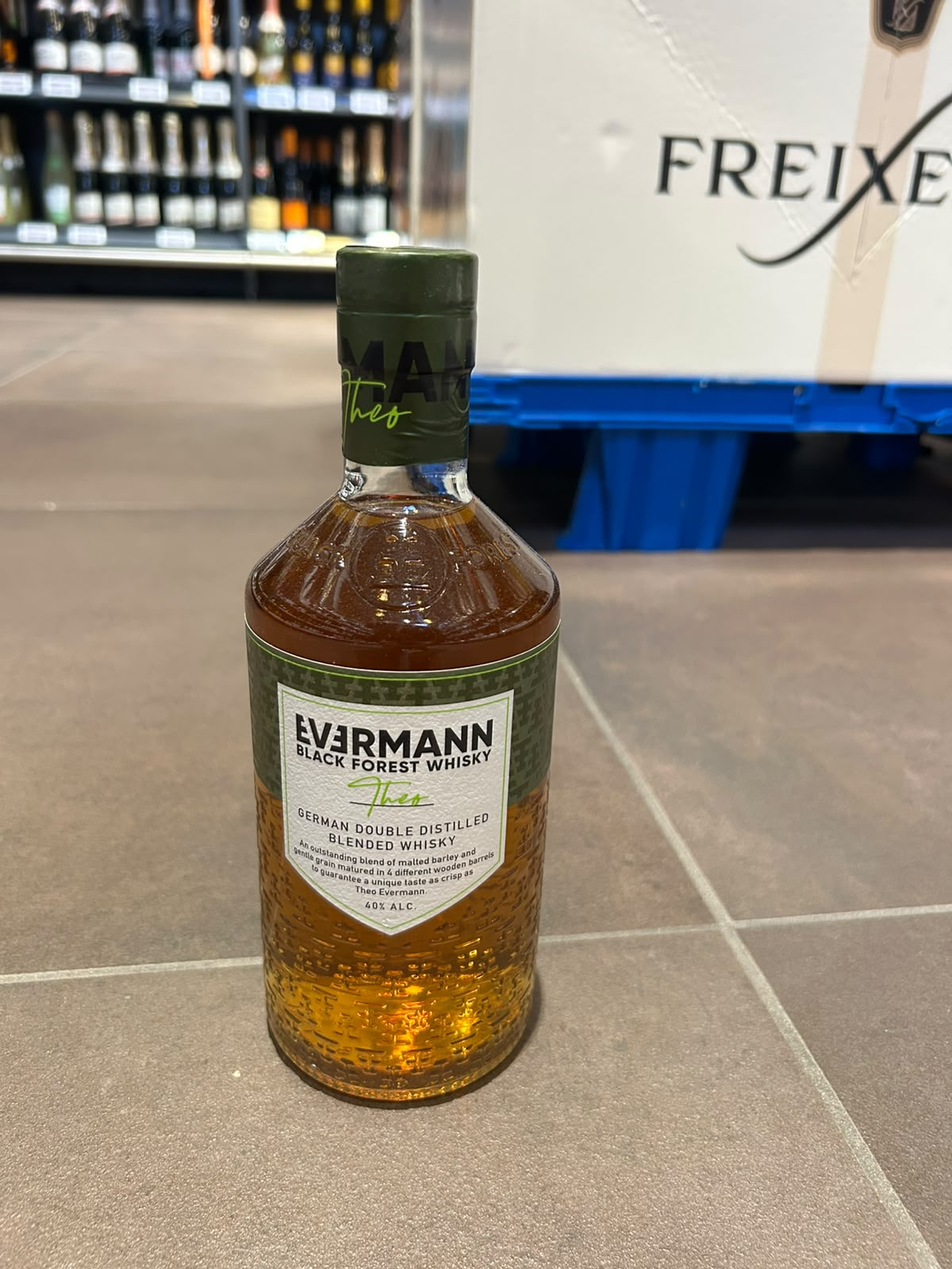bottle: (239, 230, 567, 1115)
